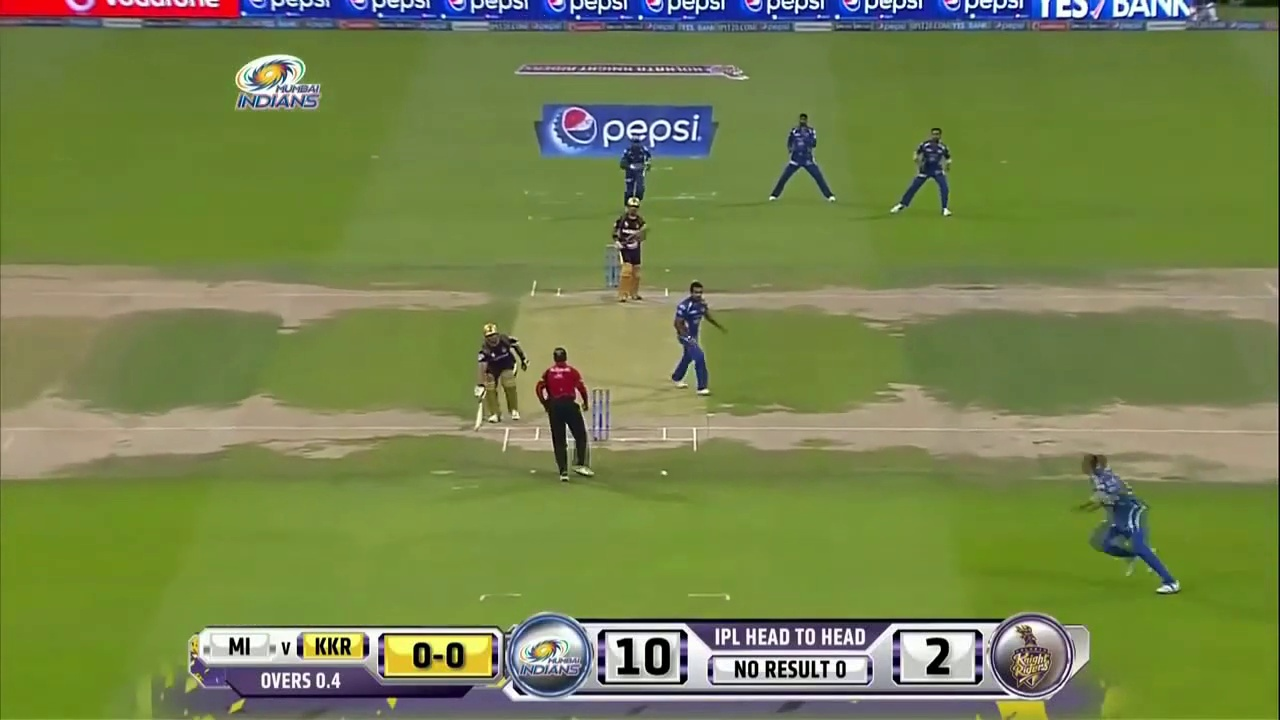bat: (474, 401, 485, 434)
stumps: (590, 386, 610, 444)
